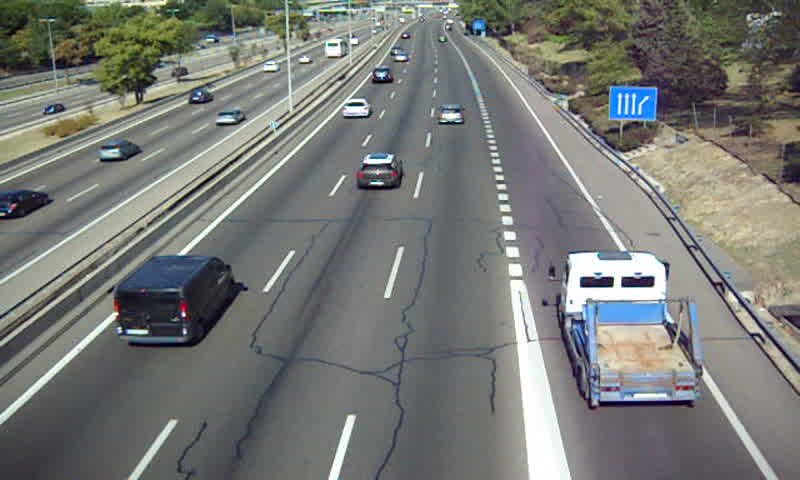car: (356, 153, 403, 190), (340, 99, 370, 119), (437, 105, 464, 126), (369, 67, 392, 84), (392, 52, 410, 65)
small-truck: (561, 252, 702, 405)
van: (114, 254, 233, 345)
